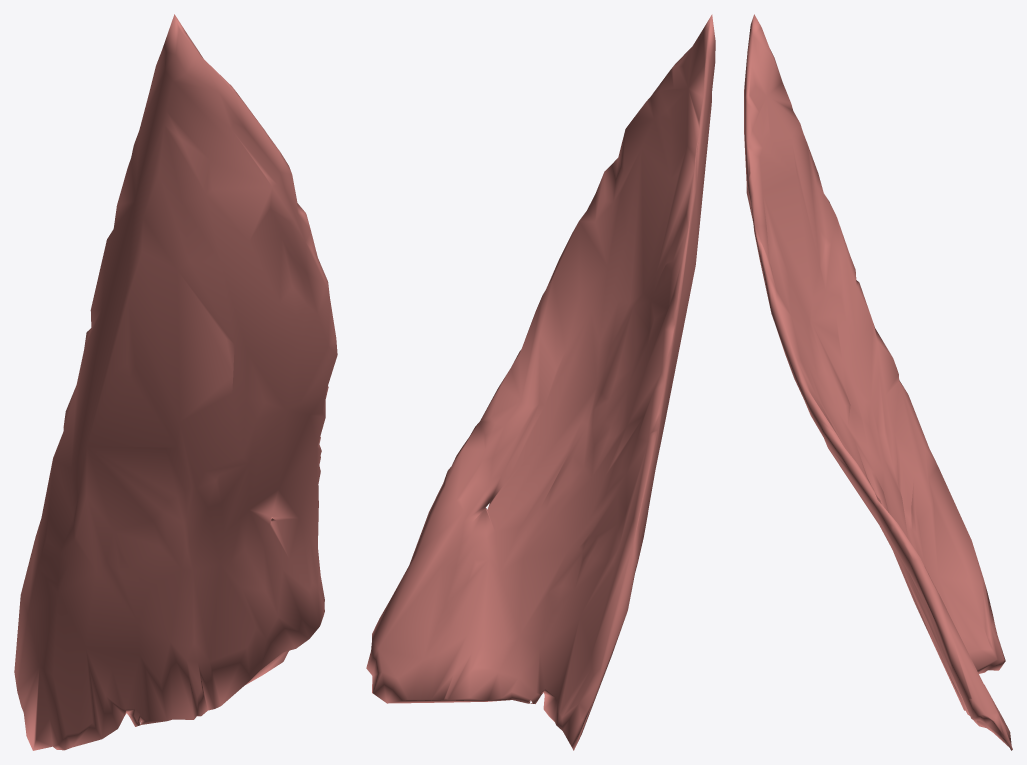
The picture shows the model from 3 angles, left to right: view 1: azimuth 30°, elevation 25°; view 2: azimuth 150°, elevation 25°; view 3: azimuth 270°, elevation 25°; orthographic projection. The views are drawn at different scales.
Visible parts, largest first — view 1: ZA_203083d0ac9caaee; view 2: ZA_203083d0ac9caaee; view 3: ZA_203083d0ac9caaee.
Part boxes in pixels (left/top/right/bottom): ZA_203083d0ac9caaee: left=14, top=14, right=337, bottom=750; ZA_203083d0ac9caaee: left=366, top=14, right=715, bottom=750; ZA_203083d0ac9caaee: left=744, top=14, right=1012, bottom=750.
Size of the model in its own units: 0.0279 by 0.0717 by 0.0269.
